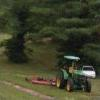Tractor: (48, 53, 100, 100)
